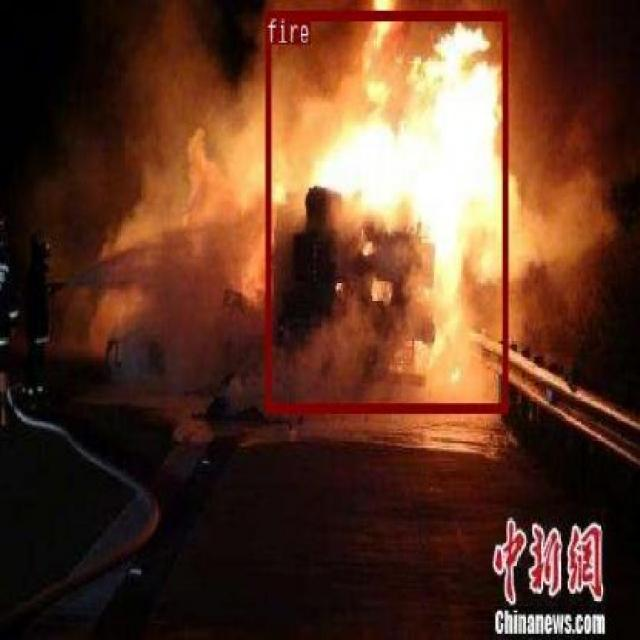Fire: (264, 10, 506, 412)
